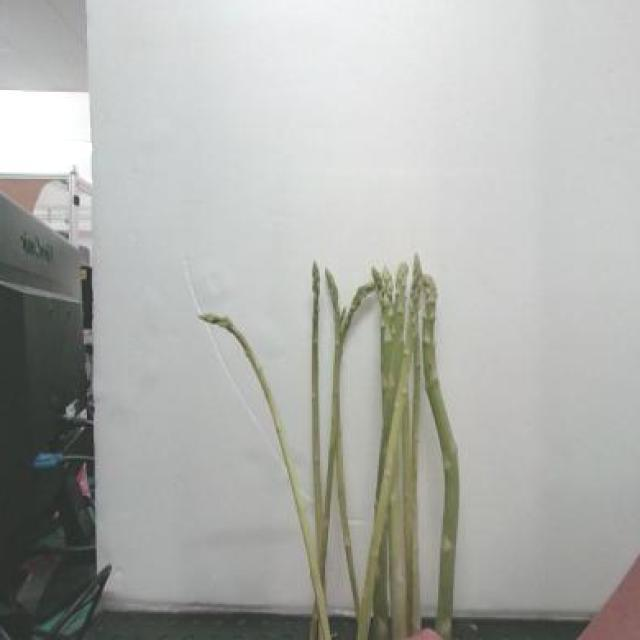aspargus: (201, 314, 331, 638), (418, 272, 461, 640)
